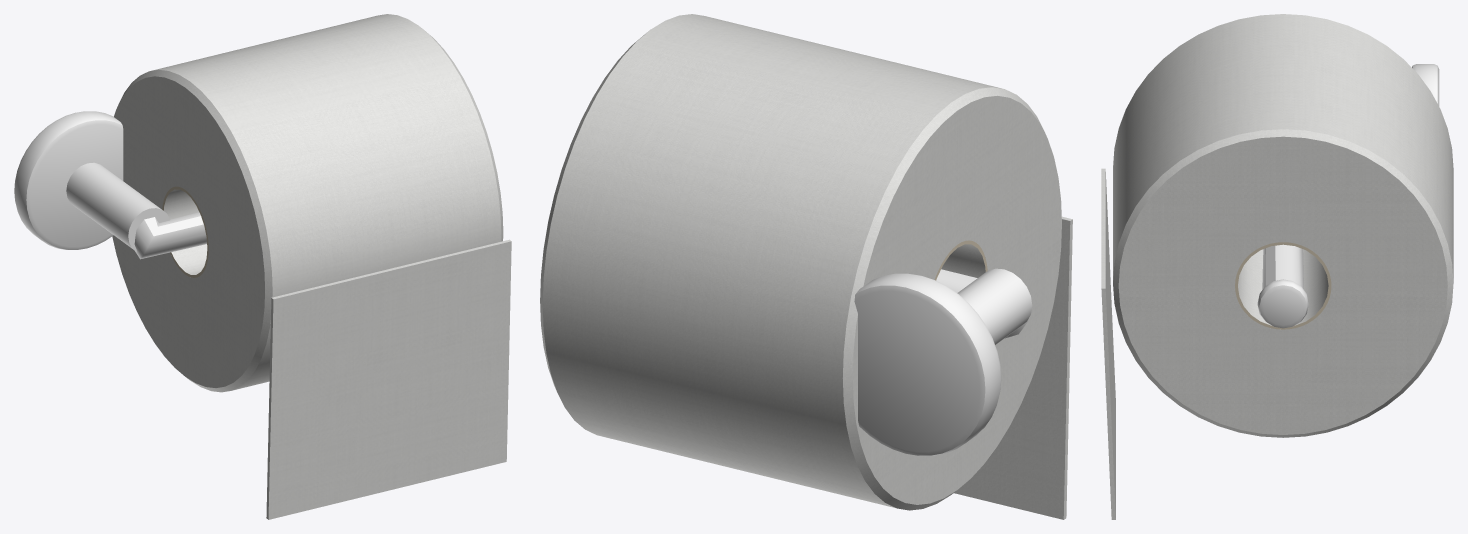
The model's file is portarrollo-cromo-v2.gltf.
3 views of the same model, side by side, from view 1: azimuth 30°, elevation 25°; view 2: azimuth 150°, elevation 25°; view 3: azimuth 270°, elevation 25° (orthographic). The views are drawn at different scales.
Visible parts, largest first — view 1: portarrollo-cromo__p_rollo, portarrollo-cromo__k_cromo; view 2: portarrollo-cromo__p_rollo, portarrollo-cromo__k_cromo; view 3: portarrollo-cromo__p_rollo, portarrollo-cromo__k_cromo, portarrollo-cromo__p_libro2.
Boxes of the visible parts, <box> form: portarrollo-cromo__p_rollo: <box>112,14,511,519</box>; portarrollo-cromo__k_cromo: <box>14,111,206,259</box>; portarrollo-cromo__p_rollo: <box>540,14,1072,519</box>; portarrollo-cromo__k_cromo: <box>854,268,1032,455</box>; portarrollo-cromo__p_rollo: <box>1101,14,1453,519</box>; portarrollo-cromo__k_cromo: <box>1257,64,1439,328</box>; portarrollo-cromo__p_libro2: <box>1235,242,1331,329</box>.
Size of the model in its own units: 0.159 by 0.151 by 0.124.
3 materials, 1 textured.
